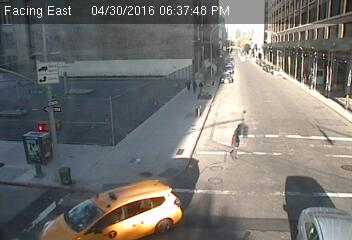neg: (167, 152, 190, 183), (295, 110, 316, 138), (78, 101, 98, 127), (32, 134, 51, 160), (160, 120, 178, 144), (45, 67, 63, 90), (102, 157, 118, 179), (93, 46, 109, 67), (285, 171, 301, 192), (111, 208, 126, 229), (127, 98, 142, 118), (224, 73, 239, 93), (148, 34, 162, 54), (296, 79, 310, 98), (143, 190, 157, 209), (231, 42, 245, 60), (158, 67, 172, 85), (318, 39, 331, 57), (57, 166, 70, 183), (281, 53, 293, 69)
pos: (227, 129, 248, 156)
